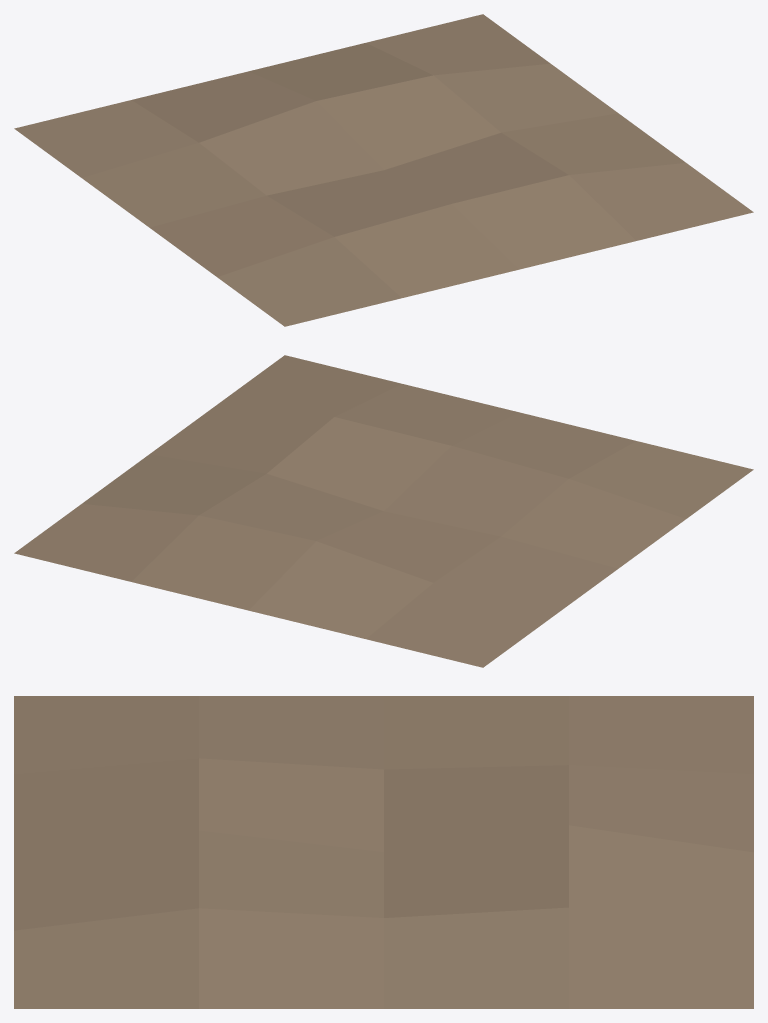
Rendered from Tile_08_Dirt_Dark.glb.
3 renders of one model, top to bottom at view 1: azimuth 30°, elevation 25°; view 2: azimuth 150°, elevation 25°; view 3: azimuth 270°, elevation 25°, orthographic. The views are drawn at different scales.
Parts seen in each view (by area): view 1: Tile_Dirt_Dark; view 2: Tile_Dirt_Dark; view 3: Tile_Dirt_Dark.
Part boxes in pixels (bbox=[...]): Tile_Dirt_Dark: bbox=[14, 14, 753, 326]; Tile_Dirt_Dark: bbox=[14, 355, 753, 667]; Tile_Dirt_Dark: bbox=[14, 696, 753, 1008].
Size of the model in its own units: 0.2 by 0.0081 by 0.2.
